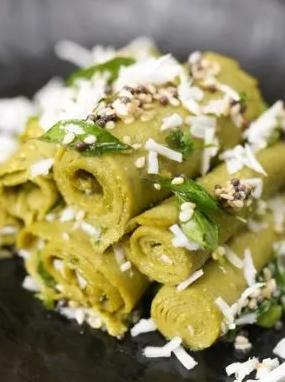khandvi: (0, 105, 285, 353)
